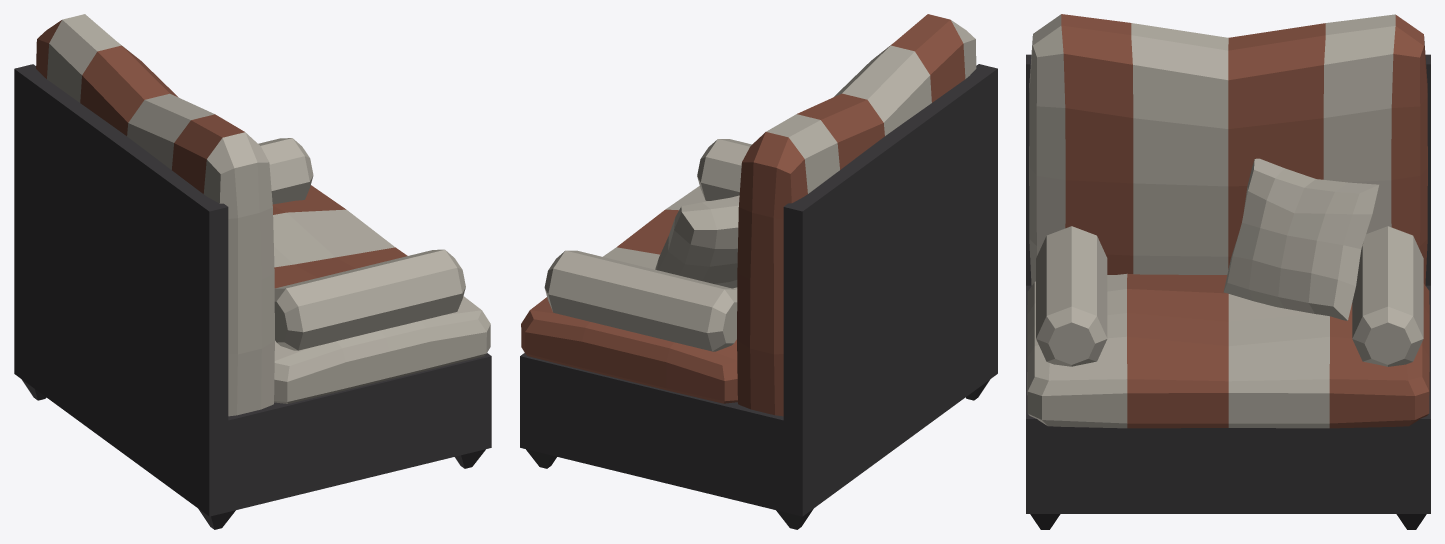
Rendered from SM_Armchair_04.glb.
3 views of the same model, side by side, from view 1: azimuth 30°, elevation 25°; view 2: azimuth 150°, elevation 25°; view 3: azimuth 270°, elevation 25° (orthographic). The views are drawn at different scales.
Visible parts, largest first — view 1: SM_Armchair_04; view 2: SM_Armchair_04; view 3: SM_Armchair_04.
Boxes of the visible parts, box(x1,y1,x2,y2) form: SM_Armchair_04: box(14, 14, 491, 529); SM_Armchair_04: box(520, 14, 997, 529); SM_Armchair_04: box(1026, 14, 1430, 529).
Bounding box in the file's own units: 1 × 1.26 × 1.17.
Materials: 1 (1 with a texture image).
